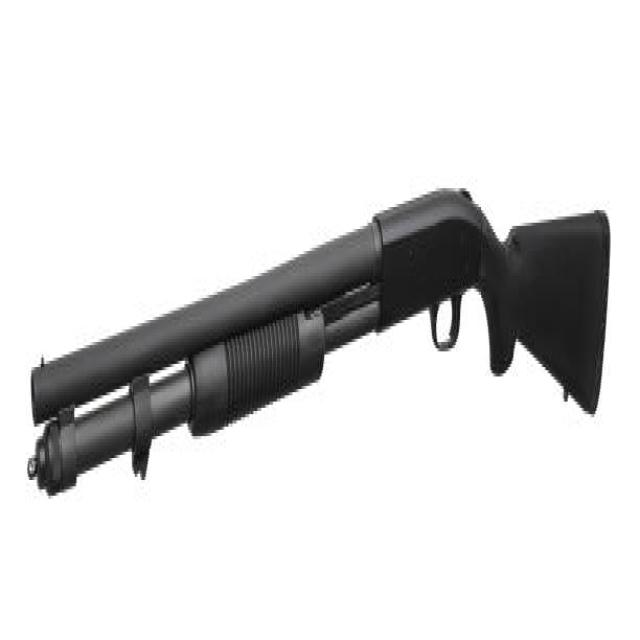rifle: (23, 163, 625, 515)
